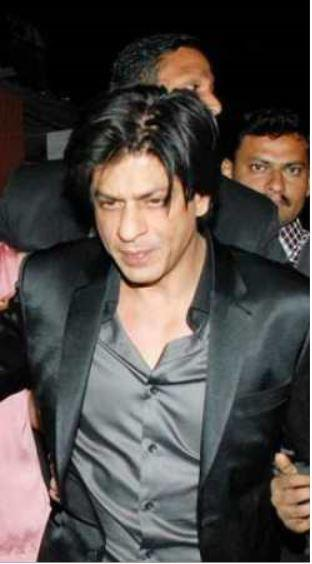Drunk: (90, 158, 183, 285)
